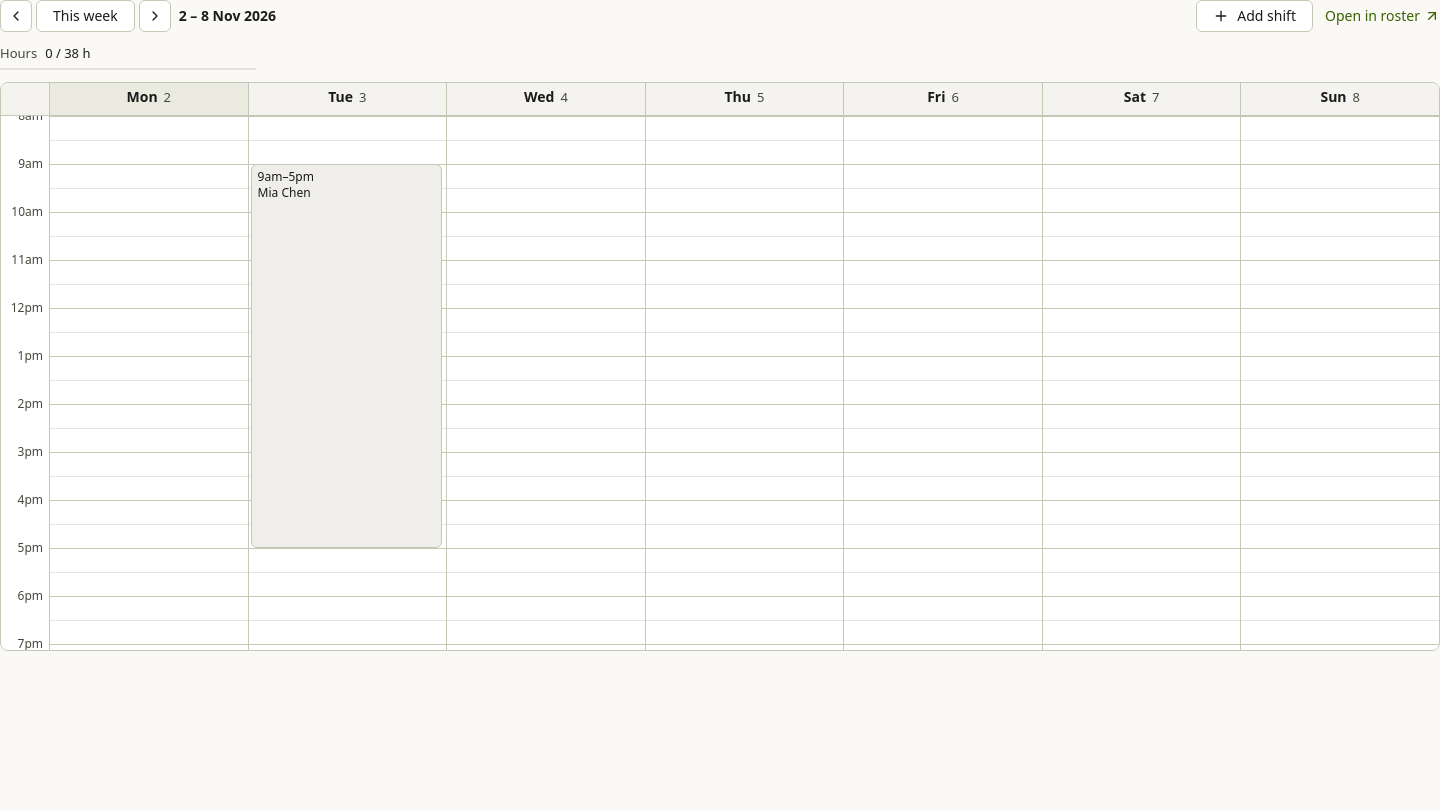
PersonWeek: the time grid › clicking a block opens Shift details in place; the URL stays on the Week tab
The width and height of the screenshot is (1440, 810).
(page scrolled)
Expected: the link "Mia Chen" is shown, [258, 184, 311, 200]
Click the button "9am –5pm Mia Chen" at [346, 356], box [251, 164, 442, 548]
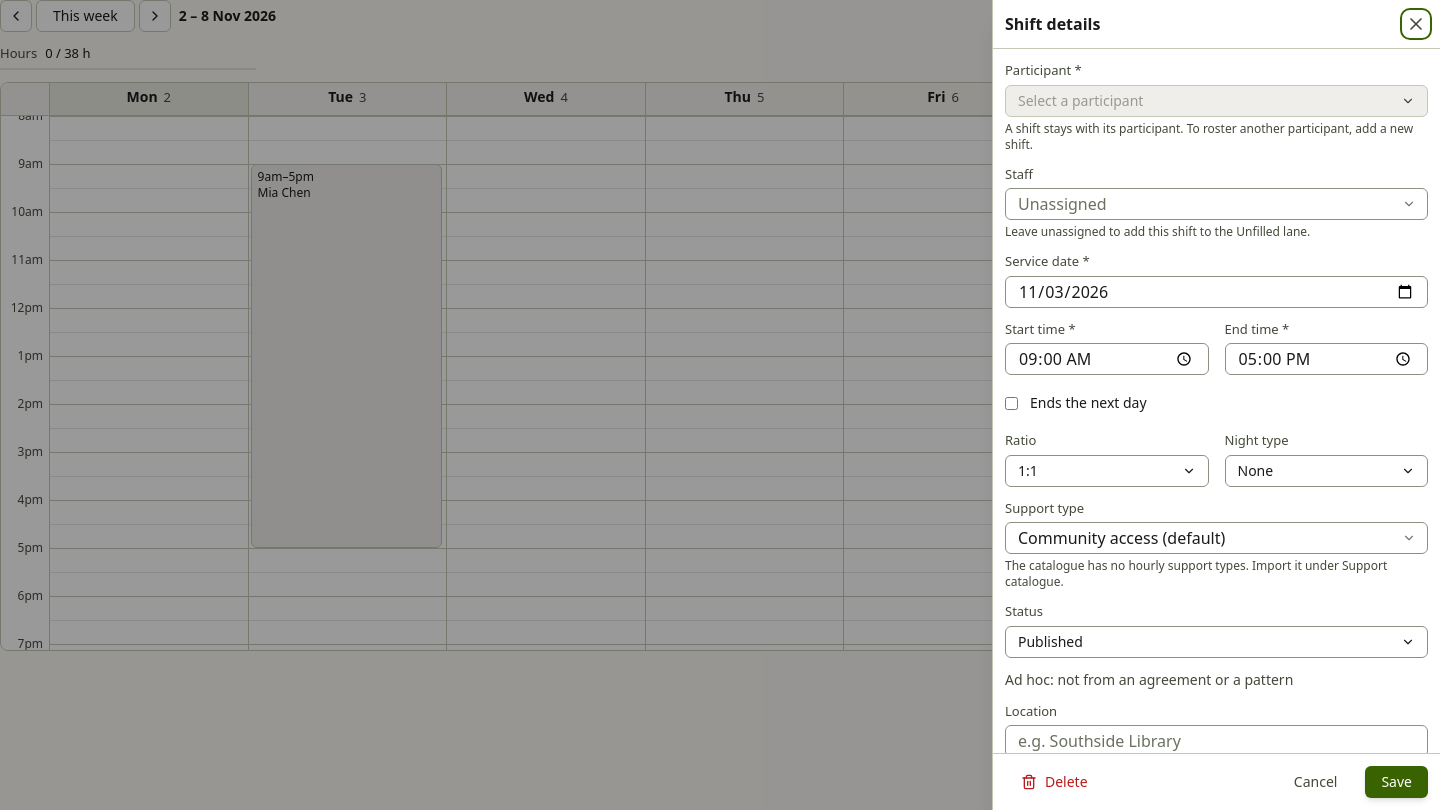
Result: the dialog "Shift details" is shown at [992, 0, 1439, 809]
